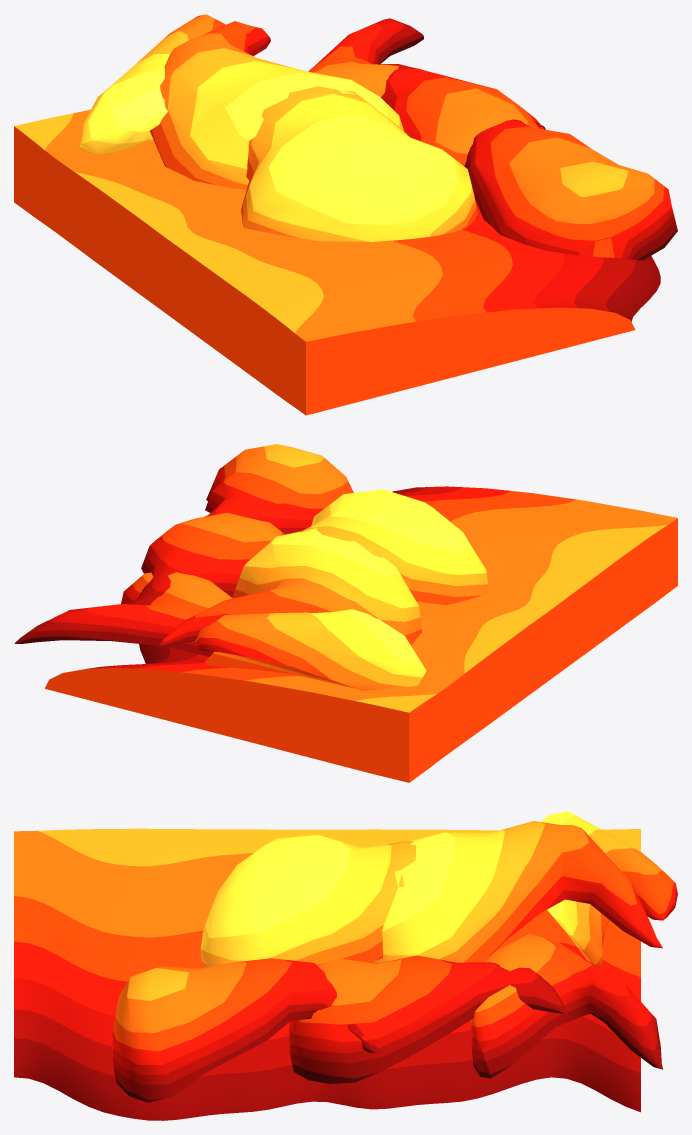
File: fire_mid_r.glb
3 renders of one model, top to bottom at view 1: azimuth 30°, elevation 25°; view 2: azimuth 150°, elevation 25°; view 3: azimuth 270°, elevation 25°, orthographic. The views are drawn at different scales.
Parts seen in each view (by area): view 1: fire_mid_r; view 2: fire_mid_r; view 3: fire_mid_r.
Part boxes in pixels (x1,y1,x2,y2): fire_mid_r: [14, 14, 677, 415]; fire_mid_r: [14, 444, 677, 782]; fire_mid_r: [14, 811, 677, 1120].
Size of the model in its own units: 24.3 by 7.94 by 29.66.
